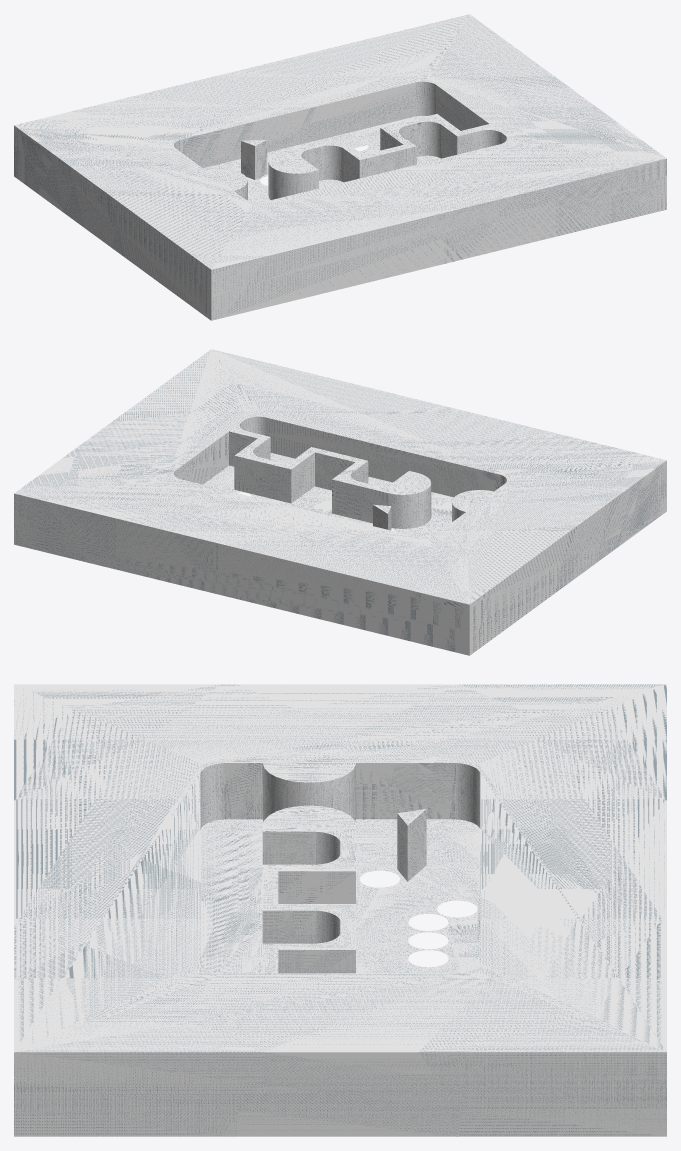
Rendered from Level 6 (dae).dae.
The picture shows the model from 3 angles, top to bottom: view 1: azimuth 30°, elevation 25°; view 2: azimuth 150°, elevation 25°; view 3: azimuth 270°, elevation 25°; orthographic projection. The views are drawn at different scales.
Visible parts, largest first — view 1: SketchUp (×3); view 2: SketchUp (×2); view 3: SketchUp (×3).
Boxes of the visible parts, x1,y1,x2,y2 form: SketchUp (×3): [14, 14, 666, 320]; SketchUp (×2): [14, 349, 666, 655]; SketchUp (×3): [14, 684, 666, 1136].
Size of the model in its own units: 1102 by 827 by 118.
